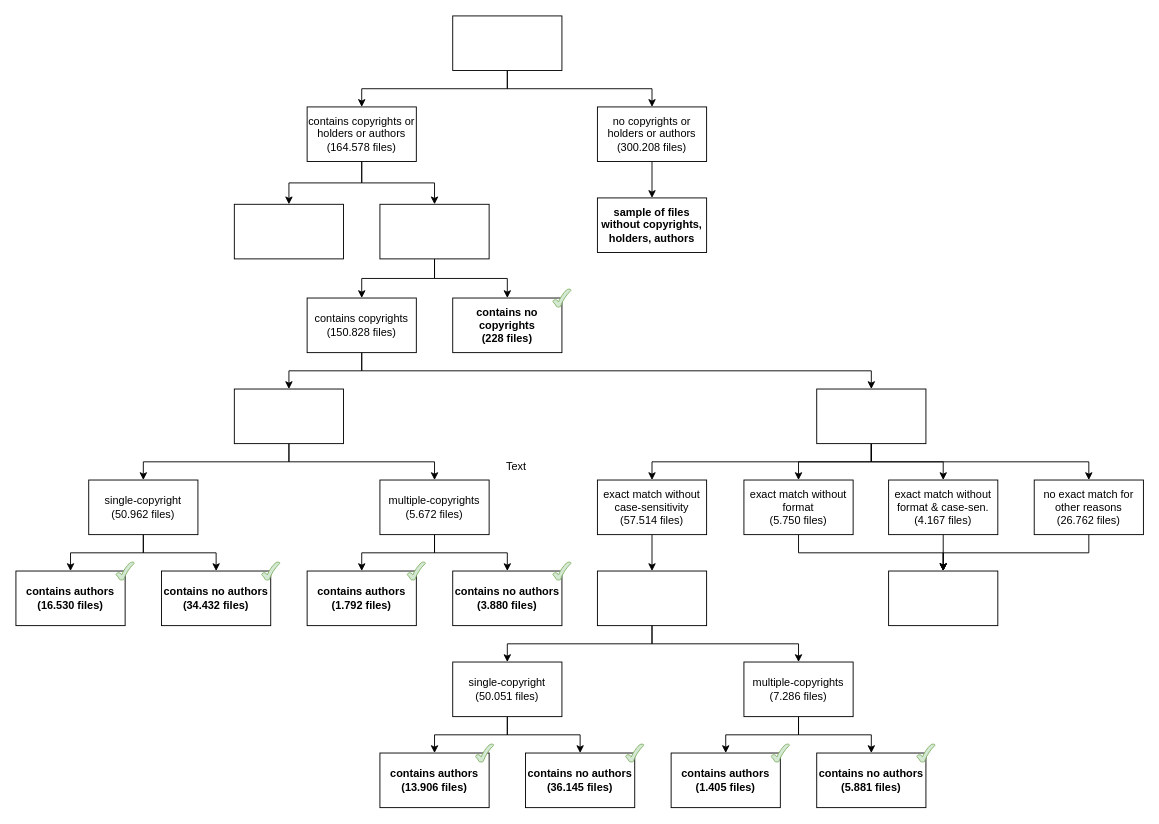
Image size: 1159x824. Some labels were removed from this diagram. The shapes that lost their labels are listed below. From the top down, each one's centre as x and y in pixels, then its label:
At (x=507, y=43): "total dataset (464.786 files)".
At (x=288, y=231): "duplicates (13.627 files)".
At (x=434, y=231): "unique files (150.951 files)".
At (x=288, y=416): "exact match (56.634 files)".
At (x=871, y=416): "no exact match (94.193 files)".
At (x=652, y=598): "restored case (57.337 files)".
At (x=943, y=598): "manually restored (currently 639 files)".
